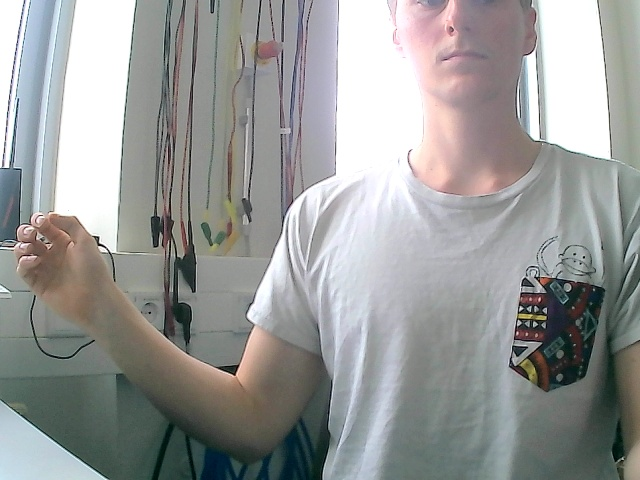no_gesture: (12, 210, 113, 326)
